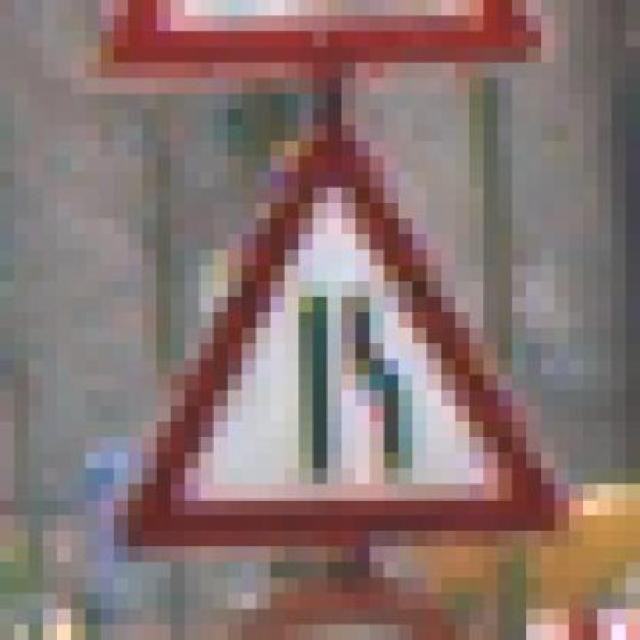-Road narrows on right: (99, 124, 584, 562)
